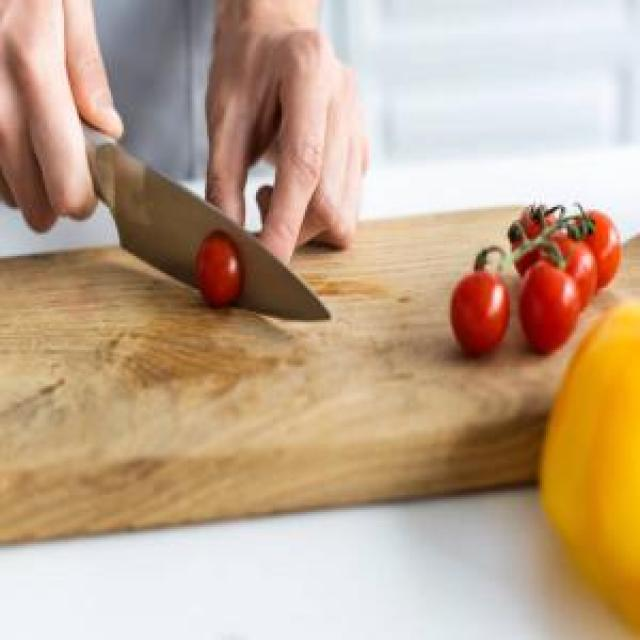knife: (60, 109, 334, 323)
